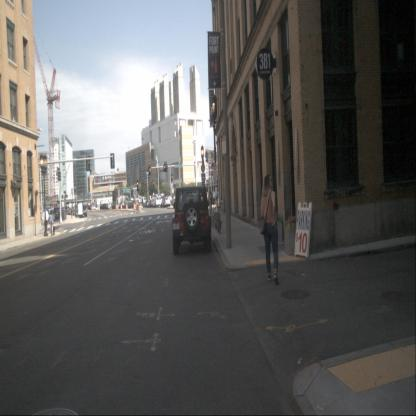barrier: (138, 204, 141, 211), (115, 204, 118, 210), (133, 204, 136, 210), (116, 205, 119, 210), (120, 204, 123, 209), (125, 204, 128, 209), (98, 205, 100, 211)
cone: (210, 207, 216, 227)
